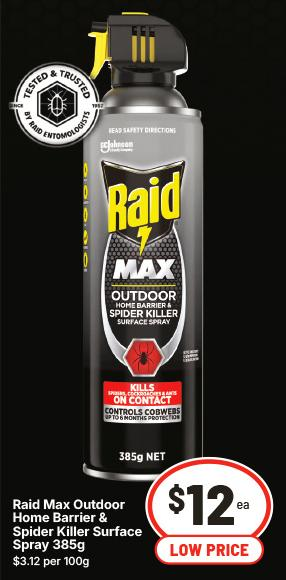description_block: (7, 495, 147, 554)
price_main: (149, 460, 264, 534)
product_image_block: (54, 19, 233, 498)
promo_text_block: (146, 537, 269, 565)
unit_price_block: (5, 549, 99, 576)
